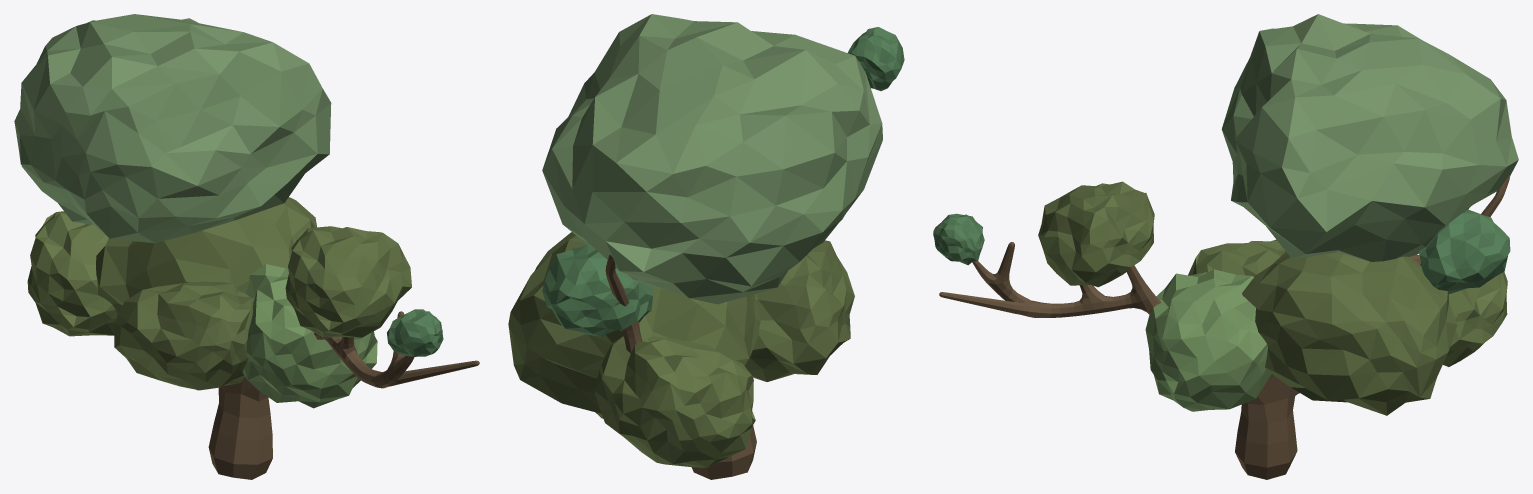
The model's file is Bush.fbx.
The picture shows the model from 3 angles, left to right: view 1: azimuth 30°, elevation 25°; view 2: azimuth 150°, elevation 25°; view 3: azimuth 270°, elevation 25°; orthographic projection. The views are drawn at different scales.
Visible parts, largest first — view 1: Icosphere.004, Icosphere.001, Icosphere.007, Icosphere, Icosphere.003, Icosphere.006, Cube.001, Icosphere.002; view 2: Icosphere.004, Icosphere.006, Icosphere.007, Icosphere.001, Icosphere.005, Icosphere.002, Cube.001; view 3: Icosphere.004, Icosphere.007, Icosphere.003, Cube.001, Icosphere, Icosphere.005, Icosphere.006, Icosphere.001, Icosphere.002.
Boxes of the visible parts, box(x1,y1,x2,y2) form: Icosphere.004: box(14, 14, 331, 243); Icosphere.001: box(114, 281, 254, 390); Icosphere.007: box(96, 197, 316, 314); Icosphere: box(285, 226, 411, 337); Icosphere.003: box(242, 264, 377, 408); Icosphere.006: box(27, 211, 117, 336); Cube.001: box(208, 311, 479, 479); Icosphere.002: box(387, 309, 443, 356); Icosphere.004: box(542, 14, 882, 304); Icosphere.006: box(594, 336, 755, 467); Icosphere.007: box(508, 232, 760, 418); Icosphere.001: box(744, 240, 854, 381); Icosphere.005: box(542, 244, 652, 336); Icosphere.002: box(848, 27, 904, 90); Cube.001: box(605, 255, 756, 479); Icosphere.004: box(1221, 14, 1518, 261); Icosphere.007: box(1242, 252, 1457, 415); Icosphere.003: box(1145, 269, 1273, 411); Cube.001: box(939, 175, 1510, 479); Icosphere: box(1038, 181, 1154, 287); Icosphere.005: box(1419, 209, 1510, 294); Icosphere.006: box(1443, 272, 1507, 366); Icosphere.001: box(1188, 239, 1285, 276); Icosphere.002: box(933, 213, 984, 265).
Bounding box in the file's own units: 439 × 647 × 833.
